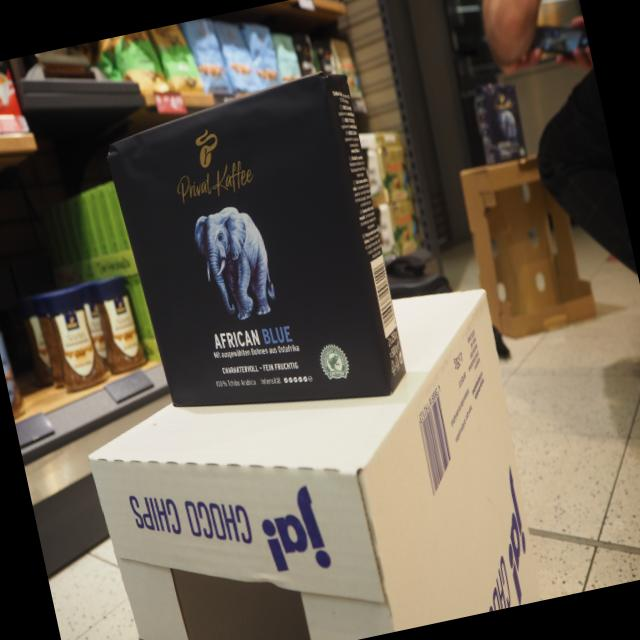AB Gemahlen: (102, 69, 394, 410)
